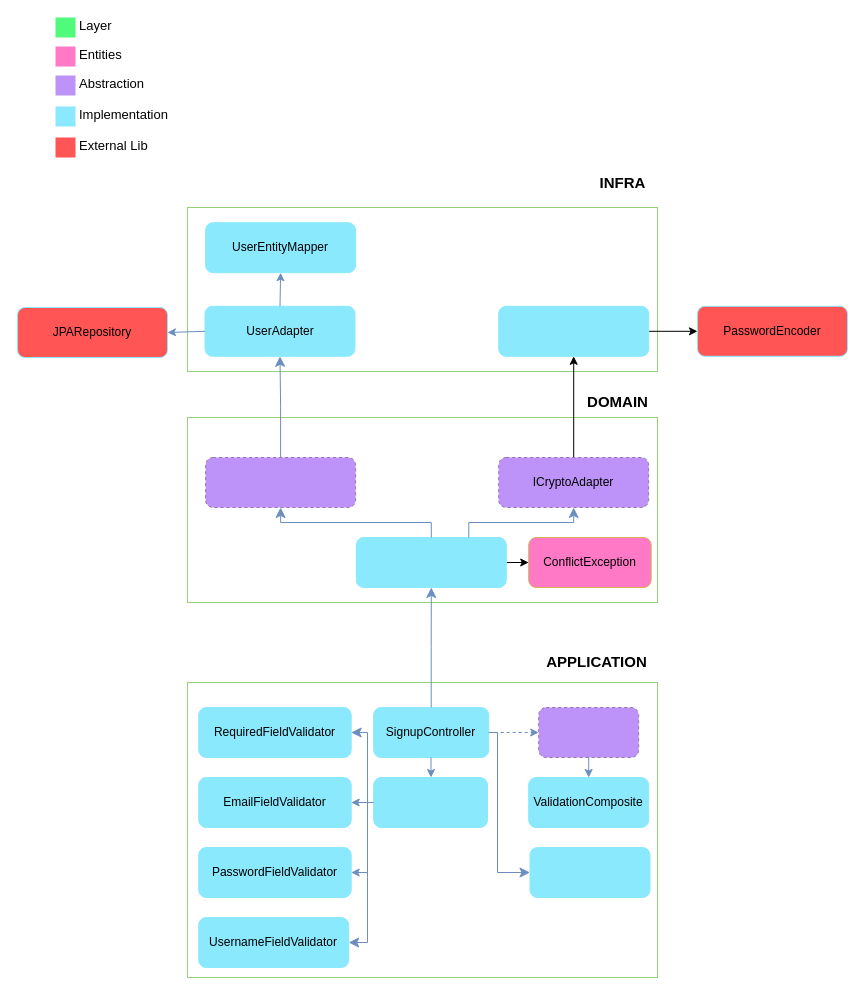
The diagram is 865 pixels wide and 995 high, and some of its shapes have lost their labels. The shapes that lost their labels are listed below. From the top down, each one's box as (x1, y1, x2, y2) in pixels, then its label:
(498, 305, 649, 356): CryptoAdapter
(205, 456, 356, 508): IUserAdapter
(355, 536, 506, 588): Signup
(538, 706, 639, 758): Controller
(373, 776, 488, 828): ValidationBuilder
(529, 846, 650, 898): UserDTOMapper
